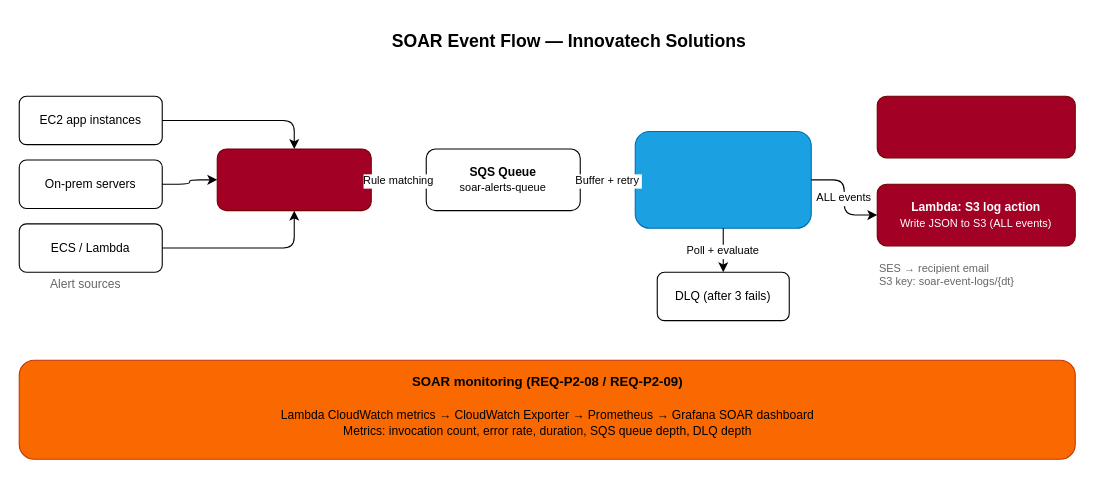
Image size: 1117x479. Some labels were removed from this diagram. The centre of each missing label's shape, as x and y in pixels:
"EventBridge Custom event bus" goes at (293,179).
"Lambda: SES action Email alert (HIGH/CRITICAL)" goes at (975,126).
"SOAR Processor ECS Fargate Rule engine (Python) Desired: 2 tasks × 2 AZ" goes at (722,179).
